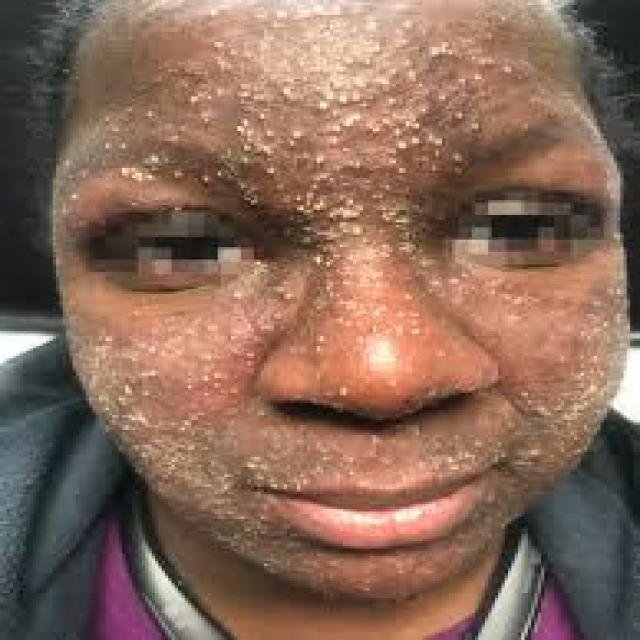Rosacea: (79, 59, 566, 217), (64, 304, 271, 548), (495, 291, 632, 516), (256, 424, 493, 484), (304, 217, 414, 328)
